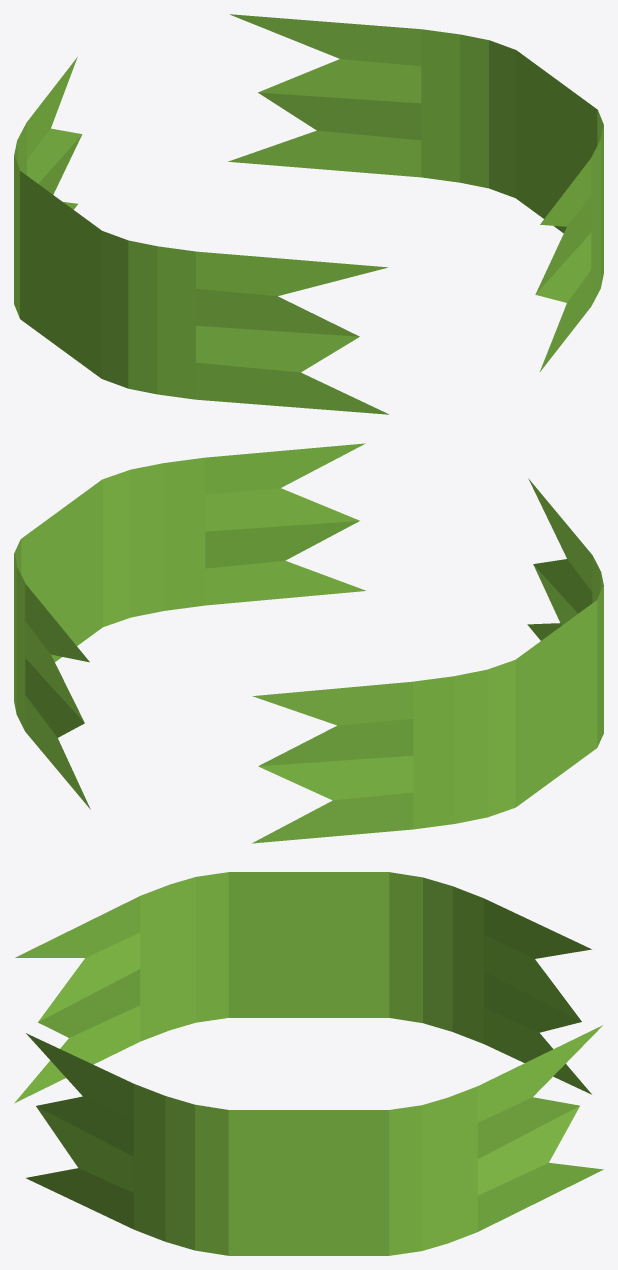
Rendered from Wind.obj.
The picture shows the model from 3 angles, top to bottom: view 1: azimuth 30°, elevation 25°; view 2: azimuth 150°, elevation 25°; view 3: azimuth 270°, elevation 25°; orthographic projection.
Visible parts, largest first — view 1: Plane, Plane.002, Plane.003, Plane.001; view 2: Plane, Plane.002, Plane.003, Plane.001; view 3: Plane.003, Plane.001, Plane.002.
Boxes of the visible parts, bbox=[...] form: Plane: bbox=[14, 72, 389, 414]; Plane.002: bbox=[228, 14, 603, 365]; Plane.003: bbox=[232, 14, 603, 371]; Plane.001: bbox=[14, 57, 345, 263]; Plane: bbox=[252, 504, 603, 843]; Plane.002: bbox=[14, 443, 366, 809]; Plane.003: bbox=[14, 443, 365, 809]; Plane.001: bbox=[300, 478, 603, 691]; Plane.003: bbox=[26, 1025, 603, 1255]; Plane.001: bbox=[14, 872, 591, 1103]; Plane.002: bbox=[28, 1028, 603, 1177].
Bounding box in the file's own units: 7.02 × 2 × 7.35.
